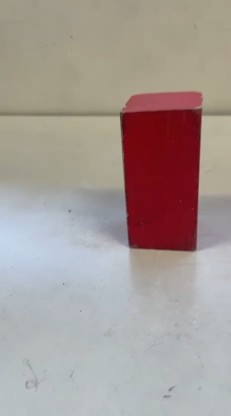red: (115, 84, 208, 254)
